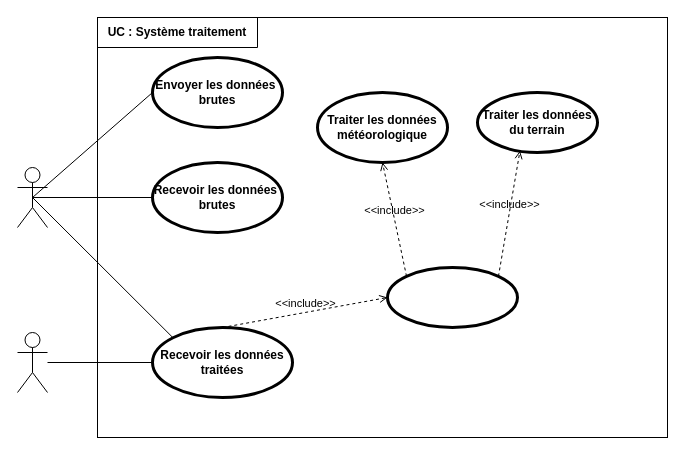
Some shapes in this 685 by 455 pixel diagram are drawn without their labels. Each missing label, with the box of its shape:
BDD: (16, 166, 48, 228)
IHM: (16, 332, 48, 392)
Traiter les données archivés: (386, 266, 518, 328)
